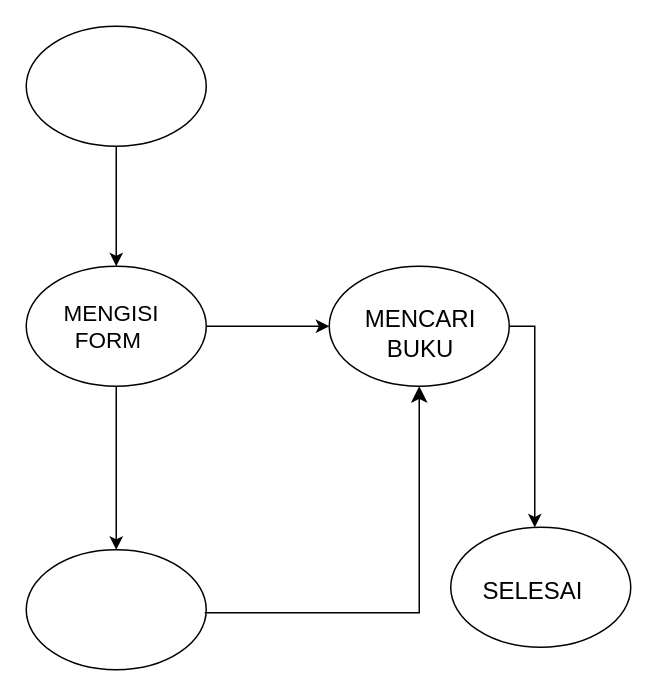
Some shapes in this 657 by 696 pixel diagram are drawn without their labels. The box of each missing label's shape, as (x1, y1, x2, y2) in pixels:
DAFTAR PENGUNJUNG: (25, 548, 206, 670)
USER: (25, 25, 206, 146)
